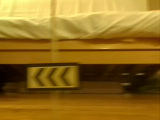left: (25, 64, 81, 89)
